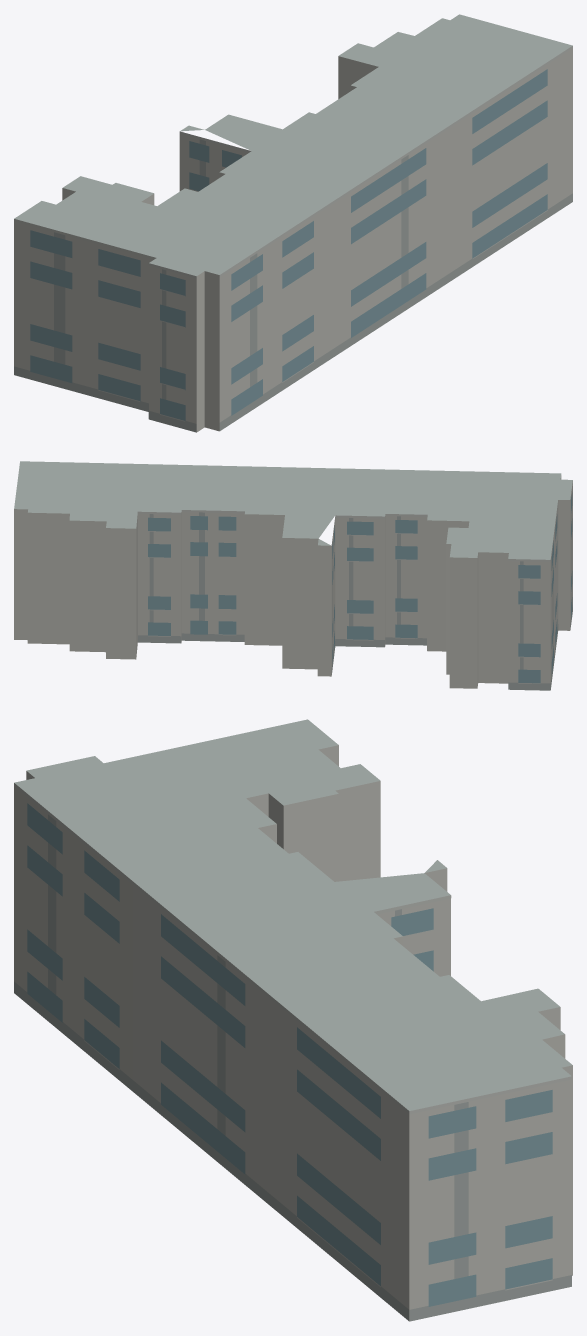
The model's file is residential-78c0a719-ab4f-4ba5-a76b-d2e4b7e5e84c.glb.
The picture shows the model from 3 angles, top to bottom: view 1: azimuth 30°, elevation 25°; view 2: azimuth 150°, elevation 25°; view 3: azimuth 270°, elevation 25°; orthographic projection. The views are drawn at different scales.
Visible parts, largest first — view 1: residential-78c0a719-ab4f-4ba5-a76b-d2e4b7e5e84c.tmp; view 2: residential-78c0a719-ab4f-4ba5-a76b-d2e4b7e5e84c.tmp; view 3: residential-78c0a719-ab4f-4ba5-a76b-d2e4b7e5e84c.tmp.
Boxes of the visible parts, <box> form: residential-78c0a719-ab4f-4ba5-a76b-d2e4b7e5e84c.tmp: <box>14,14,572,432</box>; residential-78c0a719-ab4f-4ba5-a76b-d2e4b7e5e84c.tmp: <box>14,461,572,690</box>; residential-78c0a719-ab4f-4ba5-a76b-d2e4b7e5e84c.tmp: <box>14,719,572,1321</box>.
Size of the model in its own units: 60.91 by 15.25 by 36.72.
